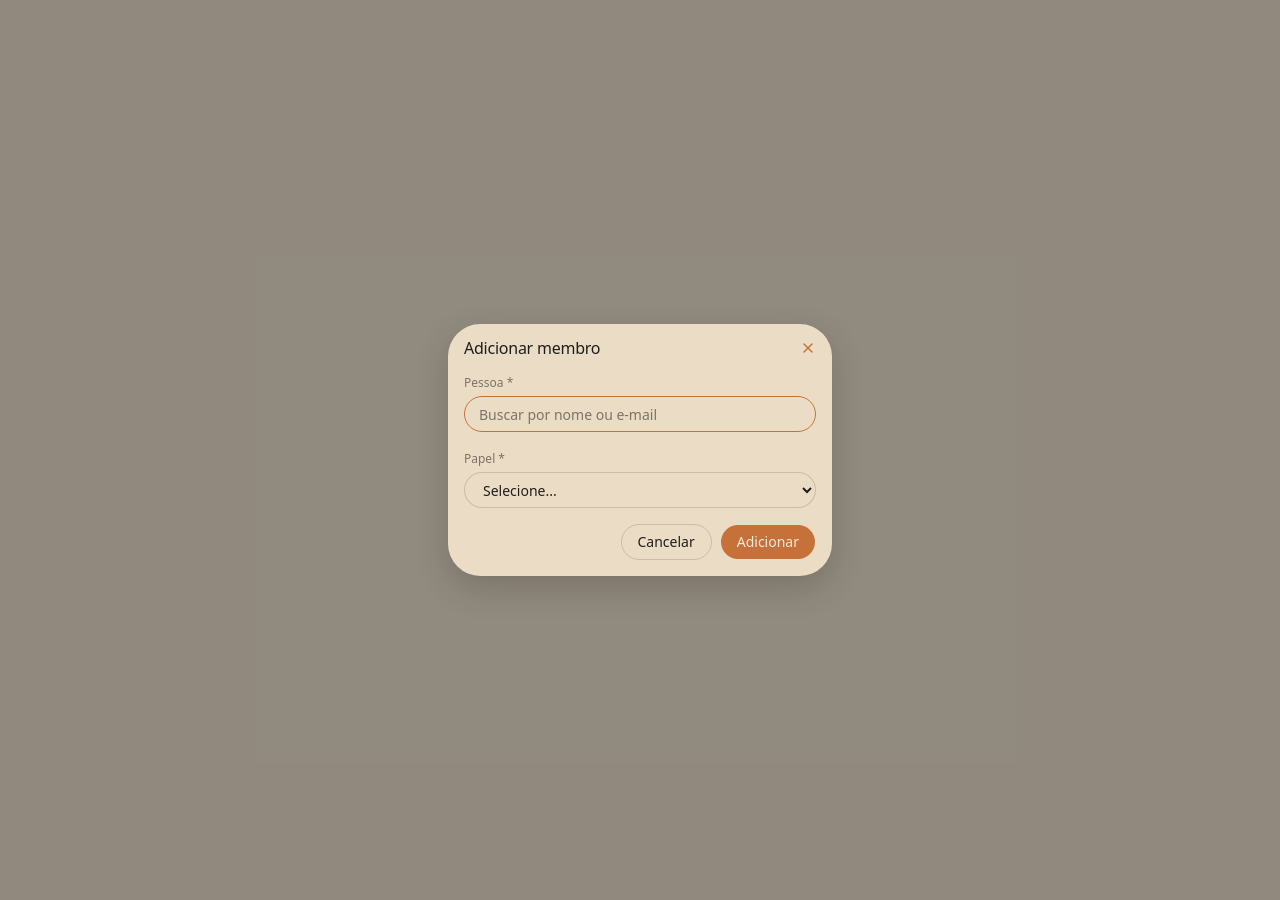
Test: AddMemberDialog › does not submit without picking someone
The width and height of the screenshot is (1280, 900).
Select "Aluno" in the dropdown labelled "Papel *" at (640, 490), box [464,472,816,508]
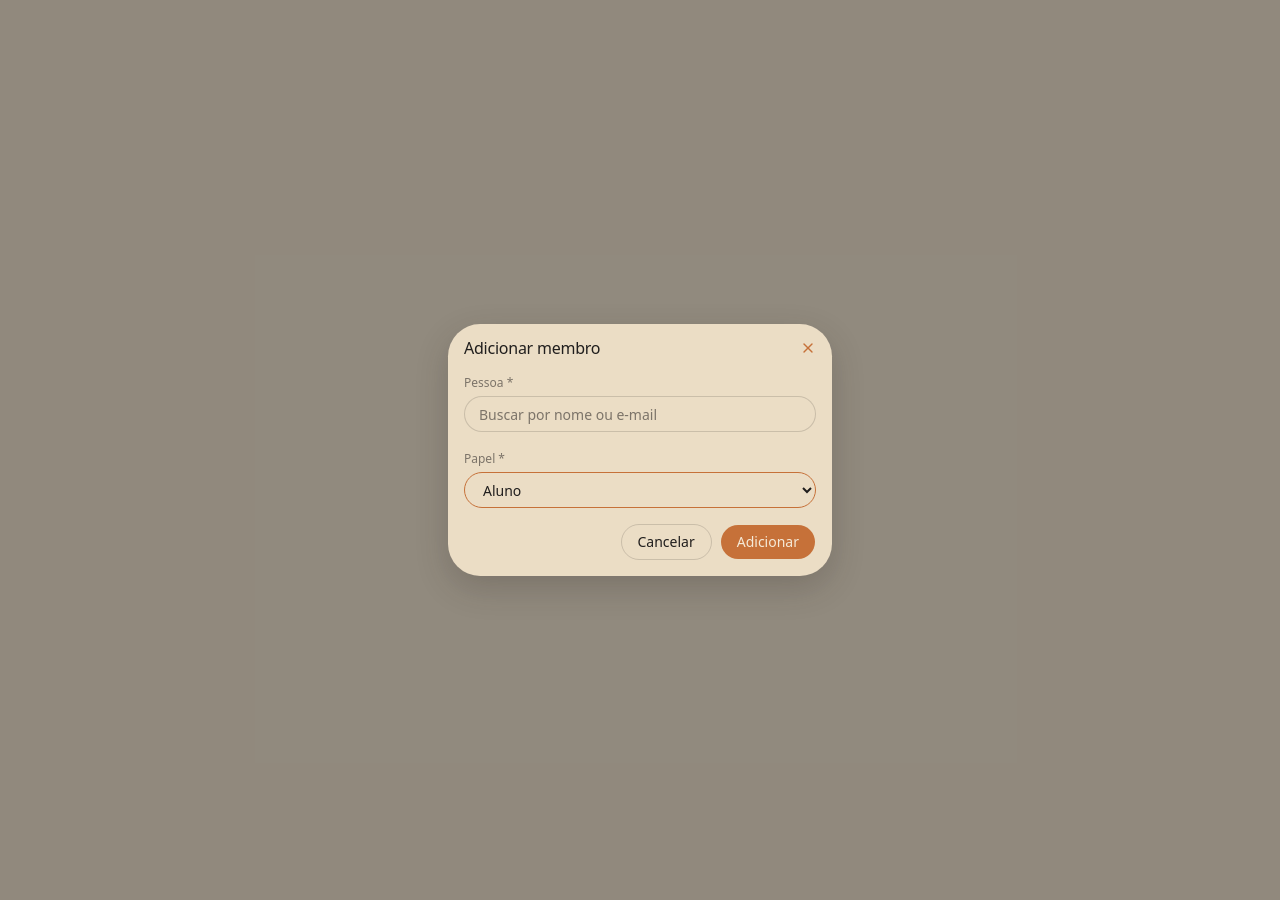
Click the button "Adicionar" at (768, 542), box [720,524,816,560]
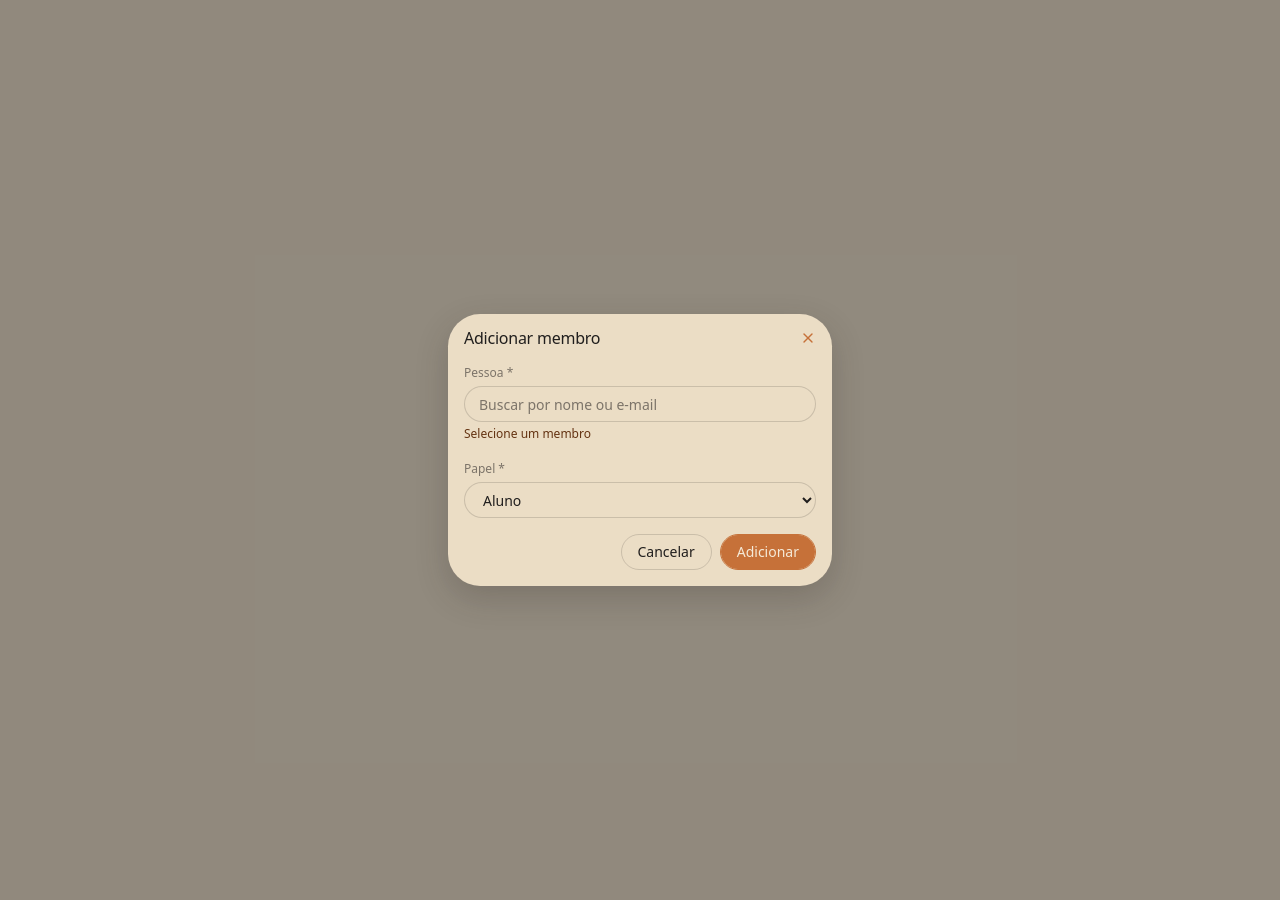
expect the text "Selecione um membro" is shown: met, box [464,425,591,442]
